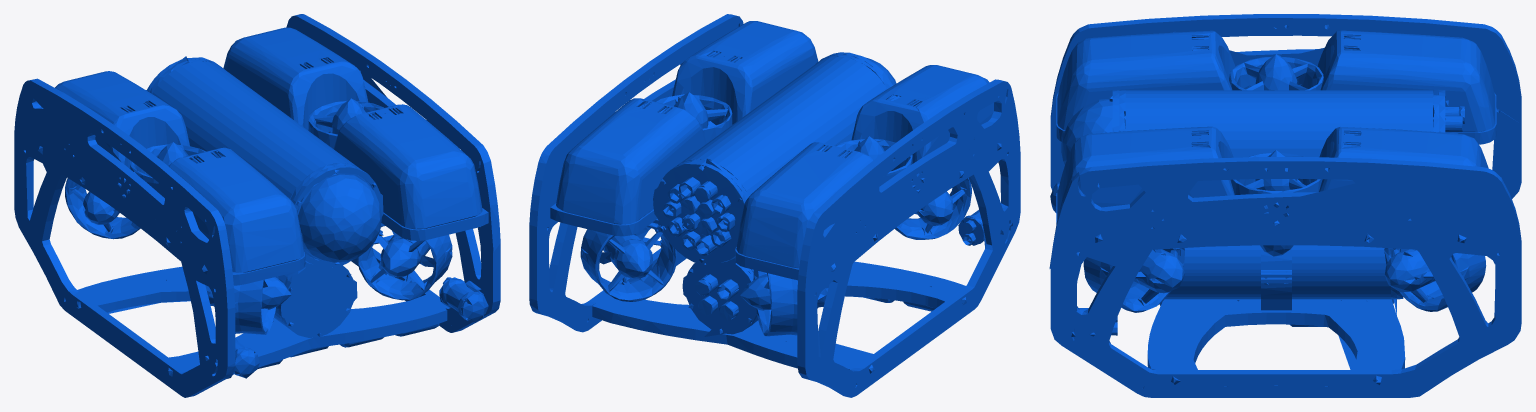
The model's file is Blurov.glb.
The picture shows the model from 3 angles, left to right: view 1: azimuth 30°, elevation 25°; view 2: azimuth 150°, elevation 25°; view 3: azimuth 270°, elevation 25°; orthographic projection. The views are drawn at different scales.
Parts seen in each view (by area): view 1: Assem-BROV2-R1; view 2: Assem-BROV2-R1; view 3: Assem-BROV2-R1.
Boxes of the visible parts, x1,y1,x2,y2 form: Assem-BROV2-R1: (14,14,500,397); Assem-BROV2-R1: (529,14,1020,397); Assem-BROV2-R1: (1049,14,1521,397).
Bounding box in the file's own units: 0.3451 × 0.2536 × 0.4582.
